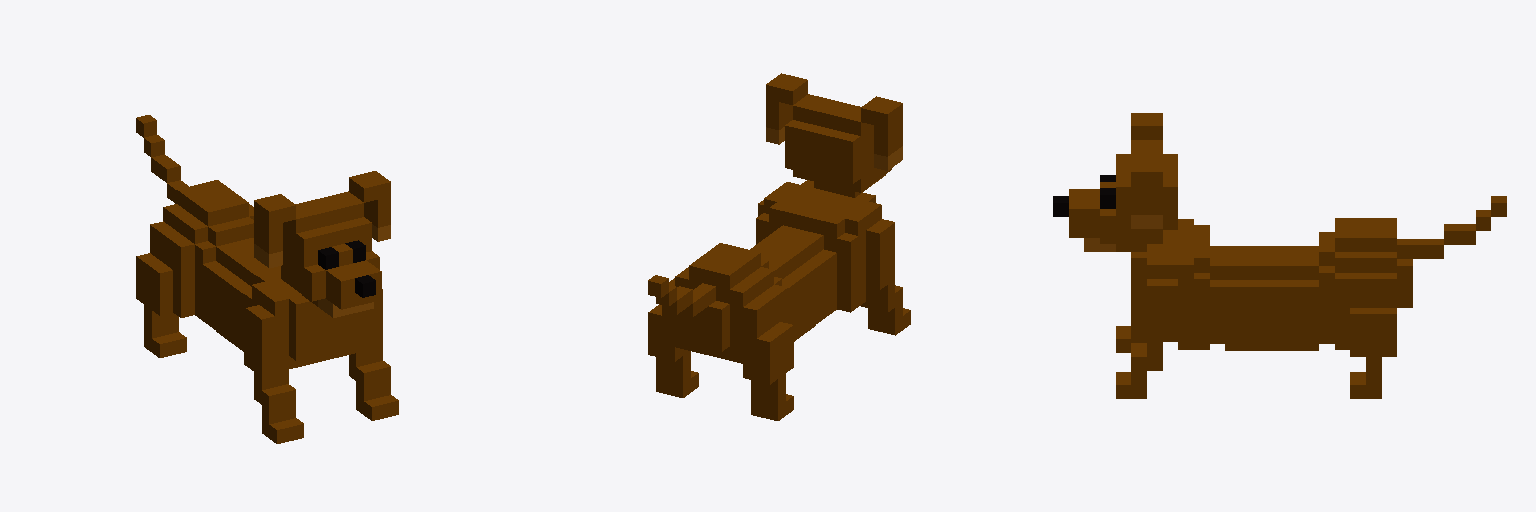
Rendered from dachshud.obj.
The picture shows the model from 3 angles: view 1: azimuth 30°, elevation 25°; view 2: azimuth 150°, elevation 25°; view 3: azimuth 270°, elevation 25°; orthographic projection.
Size of the model in its own units: 9 by 16 by 29.